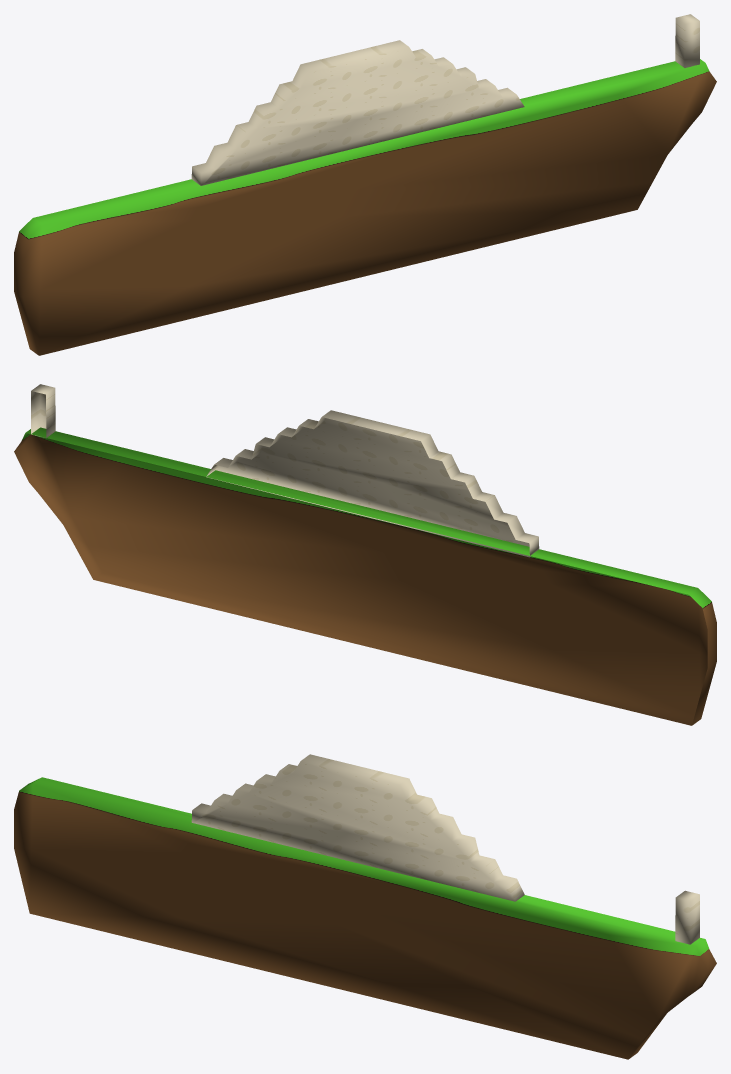
The model's file is level2.dae.
3 renders of one model, top to bottom at view 1: azimuth 30°, elevation 25°; view 2: azimuth 150°, elevation 25°; view 3: azimuth 330°, elevation 25°, orthographic.
Parts seen in each view (by area): view 1: Curve; view 2: Curve; view 3: Curve.
Part boxes in pixels (x1,y1,x2,y2): Curve: [14, 14, 716, 355]; Curve: [14, 384, 716, 725]; Curve: [14, 754, 716, 1059].
Bounding box in the file's own units: 42.78 × 1 × 12.88.
Materials: 1 (1 with a texture image).
